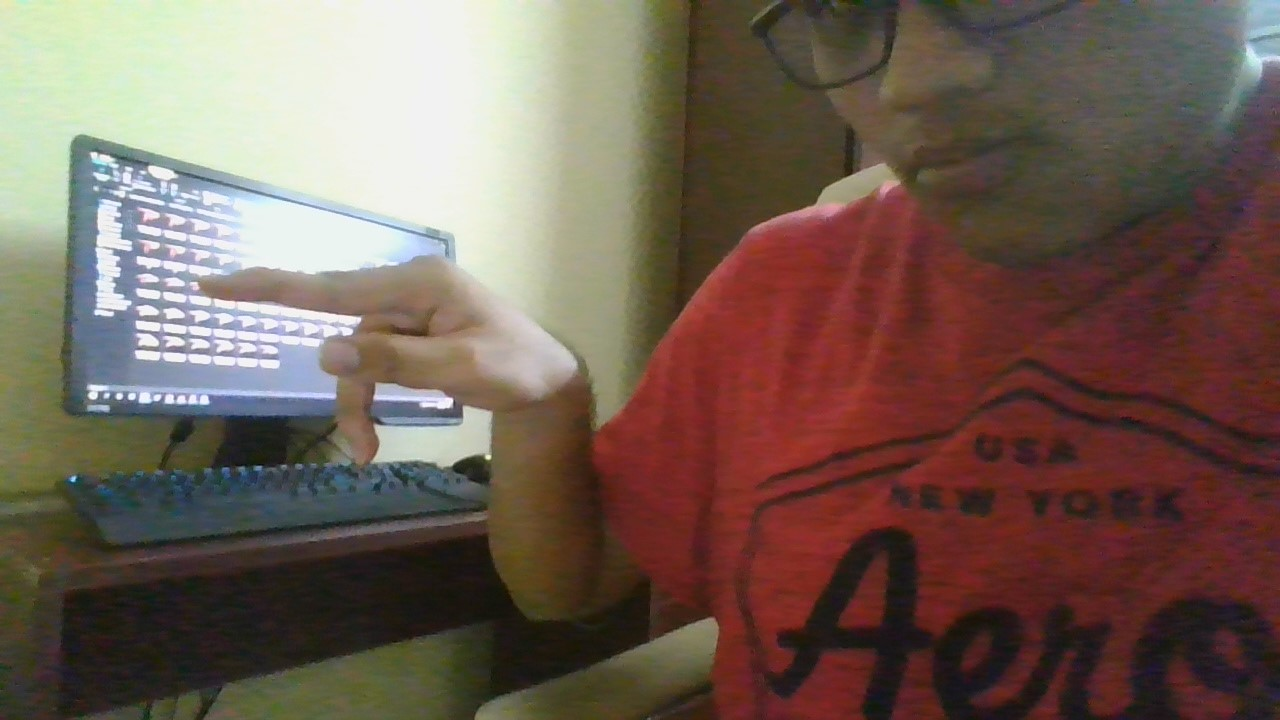p: (196, 250, 595, 469)
